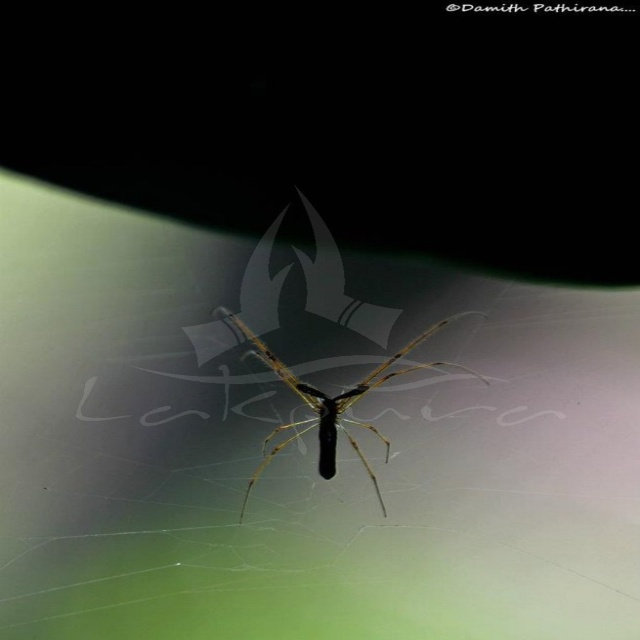Spider: (192, 306, 513, 527)
